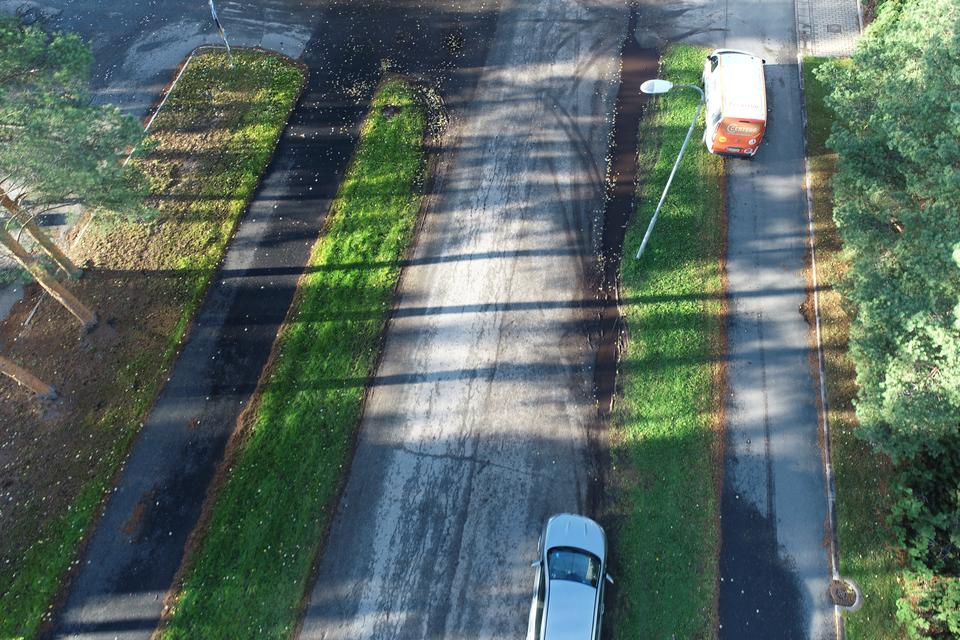intersection: (204, 2, 688, 107)
